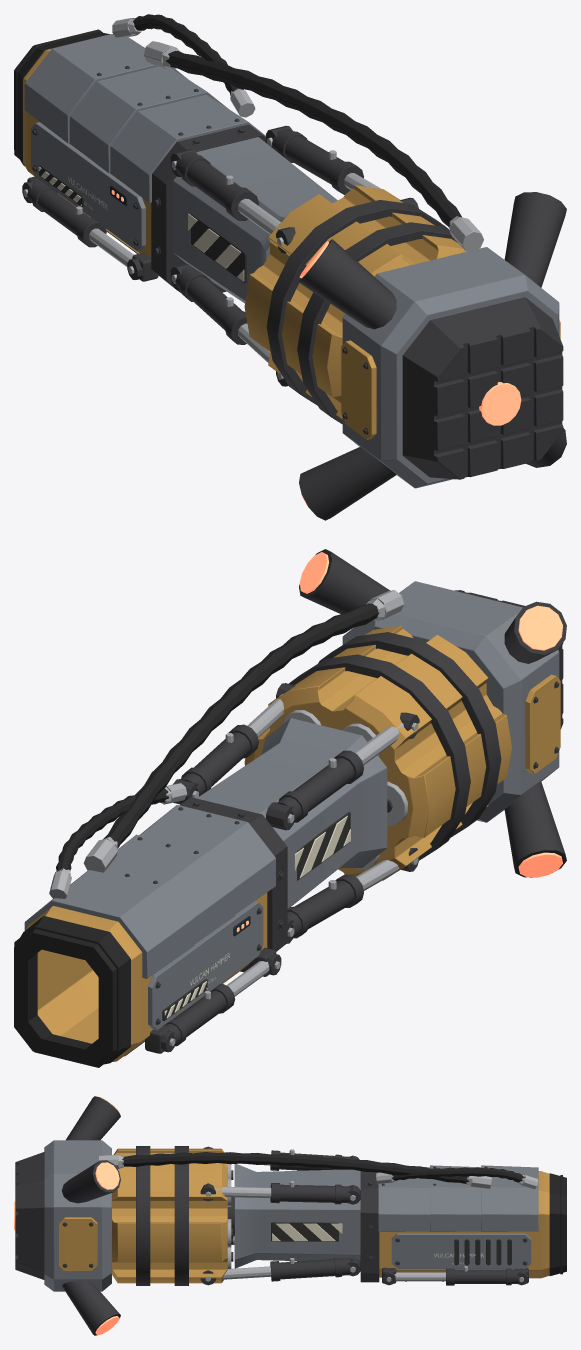
Rendered from vulcan.glb.
The picture shows the model from 3 angles, top to bottom: view 1: azimuth 30°, elevation 25°; view 2: azimuth 150°, elevation 25°; view 3: azimuth 270°, elevation 25°; orthographic projection. The views are drawn at different scales.
Parts seen in each view (by area): view 1: Body; view 2: Body; view 3: Body.
Boxes of the visible parts, x1,y1,x2,y2 form: Body: (14,14,566,520); Body: (14,549,566,1067); Body: (14,1096,566,1335).
Bounding box in the file's own units: 0.3981 × 0.3981 × 1.15.
